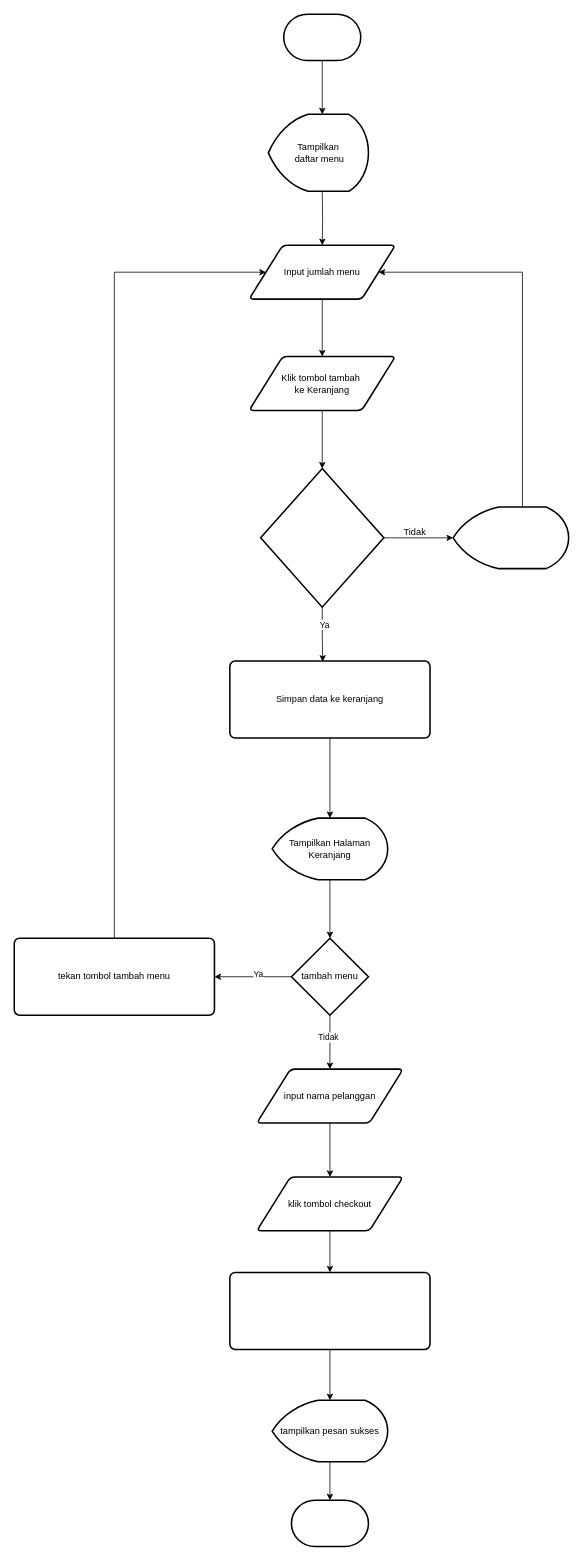
This 582x1560 diagram has some shape labels left out. Each missing label, with the centre of its shape:
Apakah Jumlah > 0?: point (321, 537)
selesai: point (329, 1523)
simpan data transaksi: point (329, 1310)
start: point (322, 37)
Tampilkan Pesan Eror: point (510, 537)
